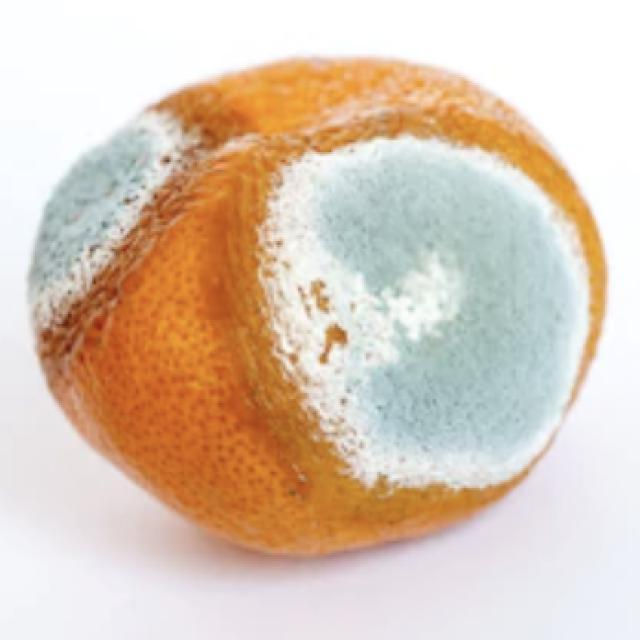sangat-busuk: (55, 58, 606, 553), (259, 136, 587, 487), (28, 113, 185, 320)
